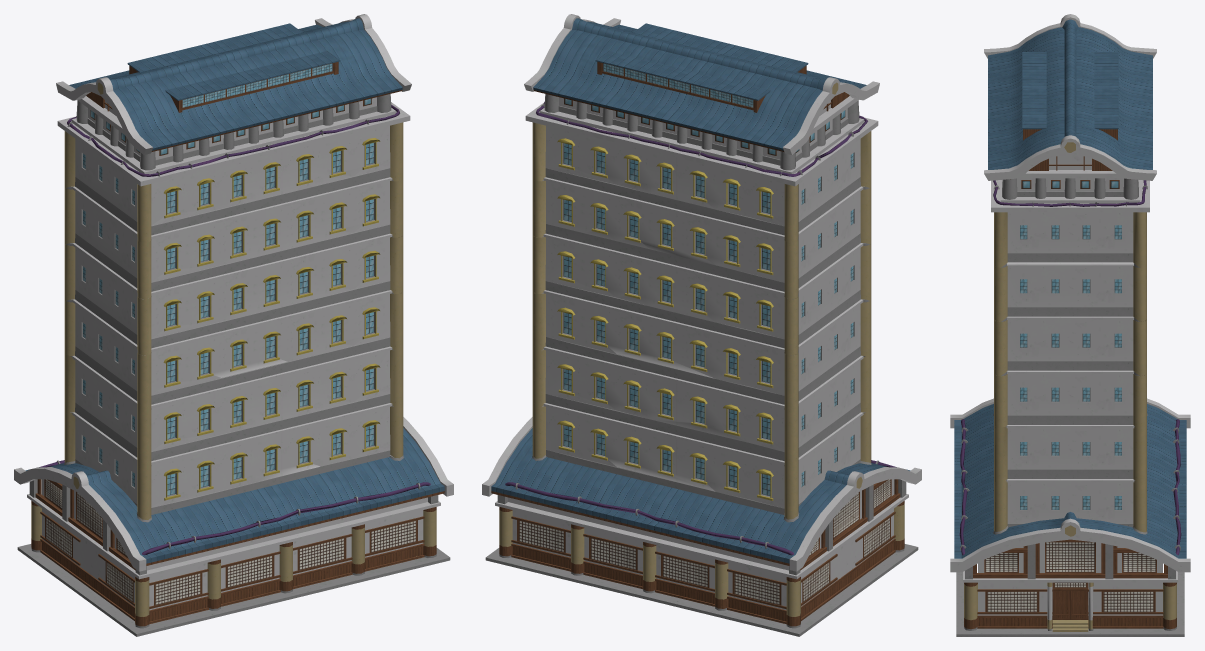
The model's file is SM_ENV_LKNVLD_CommonBuilding_A_Tall.FBX.
3 views of the same model, side by side, from view 1: azimuth 30°, elevation 25°; view 2: azimuth 150°, elevation 25°; view 3: azimuth 270°, elevation 25° (orthographic). The views are drawn at different scales.
Parts seen in each view (by area): view 1: SM_ENV_LKNVLD_CommonBuilding_A_Tall; view 2: SM_ENV_LKNVLD_CommonBuilding_A_Tall; view 3: SM_ENV_LKNVLD_CommonBuilding_A_Tall.
Boxes of the visible parts, box(x1,y1,x2,y2) form: SM_ENV_LKNVLD_CommonBuilding_A_Tall: box(14, 14, 453, 636); SM_ENV_LKNVLD_CommonBuilding_A_Tall: box(482, 14, 921, 636); SM_ENV_LKNVLD_CommonBuilding_A_Tall: box(950, 14, 1190, 636).
Bounding box in the file's own units: 3505 × 5400 × 2413.
